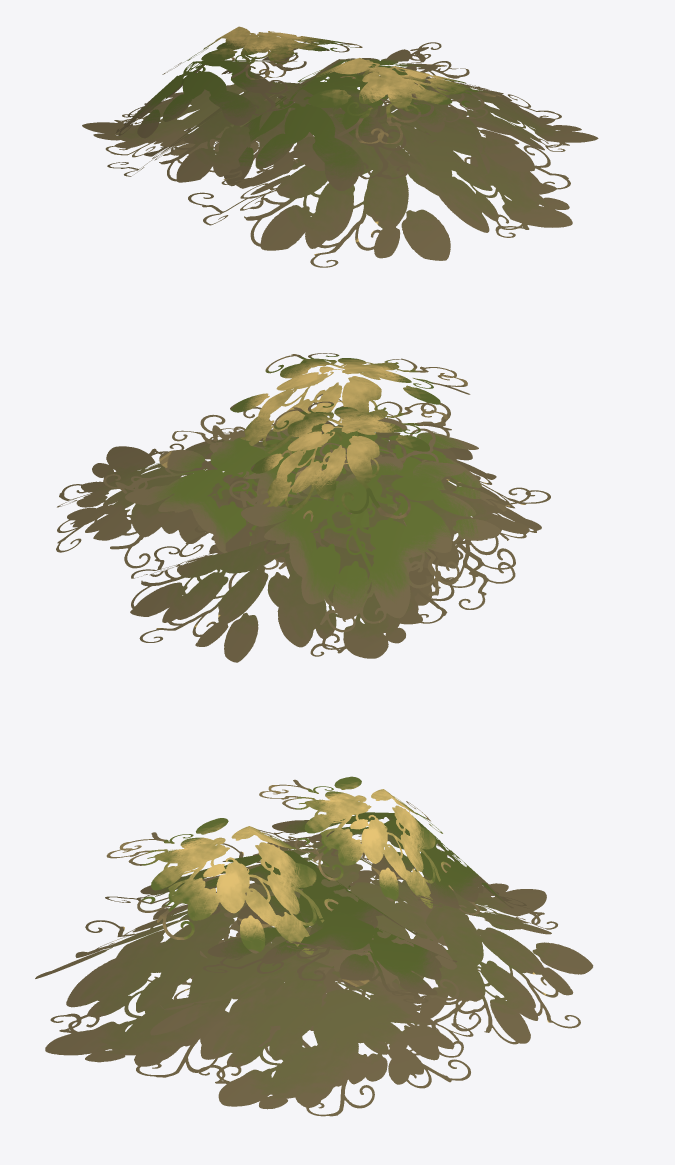
The model's file is BushCluster.fbx.
3 renders of one model, top to bottom at view 1: azimuth 30°, elevation 25°; view 2: azimuth 150°, elevation 25°; view 3: azimuth 270°, elevation 25°, orthographic. The views are drawn at different scales.
Visible parts, largest first — view 1: MidBush4; view 2: MidBush4; view 3: MidBush4.
Boxes of the visible parts, bbox=[...] form: MidBush4: bbox=[82, 26, 598, 267]; MidBush4: bbox=[56, 353, 550, 662]; MidBush4: bbox=[35, 776, 593, 1116].
Bounding box in the file's own units: 238 × 75.7 × 216.
